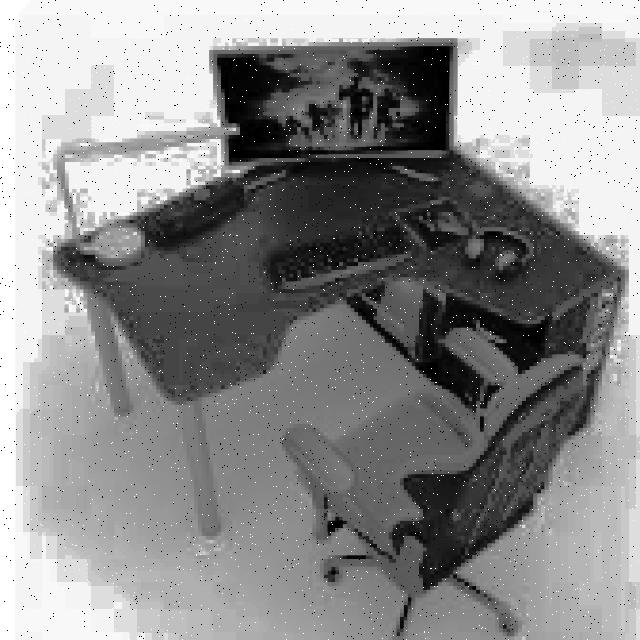book: (278, 343, 591, 640)
table: (50, 123, 624, 536)
